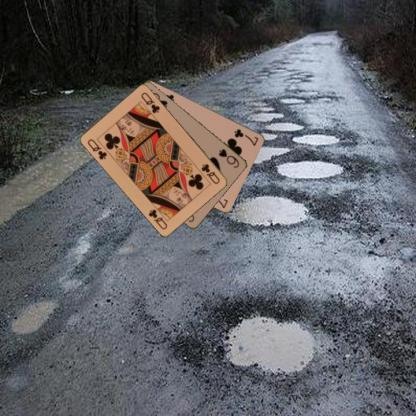6s: (216, 146, 241, 169)
7c: (232, 126, 260, 147)
Qc: (85, 136, 109, 162), (199, 161, 221, 186)
